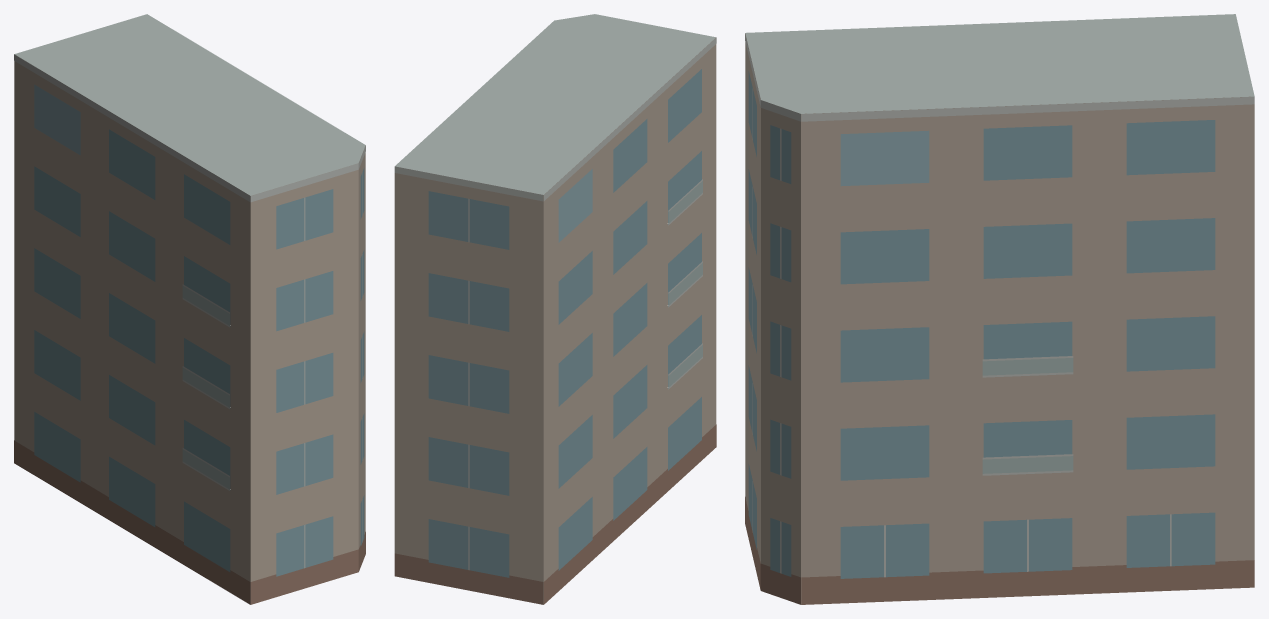
The model's file is survey-upis-33007768.glb.
3 views of the same model, side by side, from view 1: azimuth 30°, elevation 25°; view 2: azimuth 150°, elevation 25°; view 3: azimuth 270°, elevation 25° (orthographic). The views are drawn at different scales.
Parts seen in each view (by area): view 1: survey-upis-33007768.tmp; view 2: survey-upis-33007768.tmp; view 3: survey-upis-33007768.tmp.
Boxes of the visible parts, <box> form: survey-upis-33007768.tmp: <box>14,14,365,604</box>; survey-upis-33007768.tmp: <box>394,14,716,604</box>; survey-upis-33007768.tmp: <box>745,14,1254,604</box>.
Bounding box in the file's own units: 6.69 × 15.3 × 14.4.
